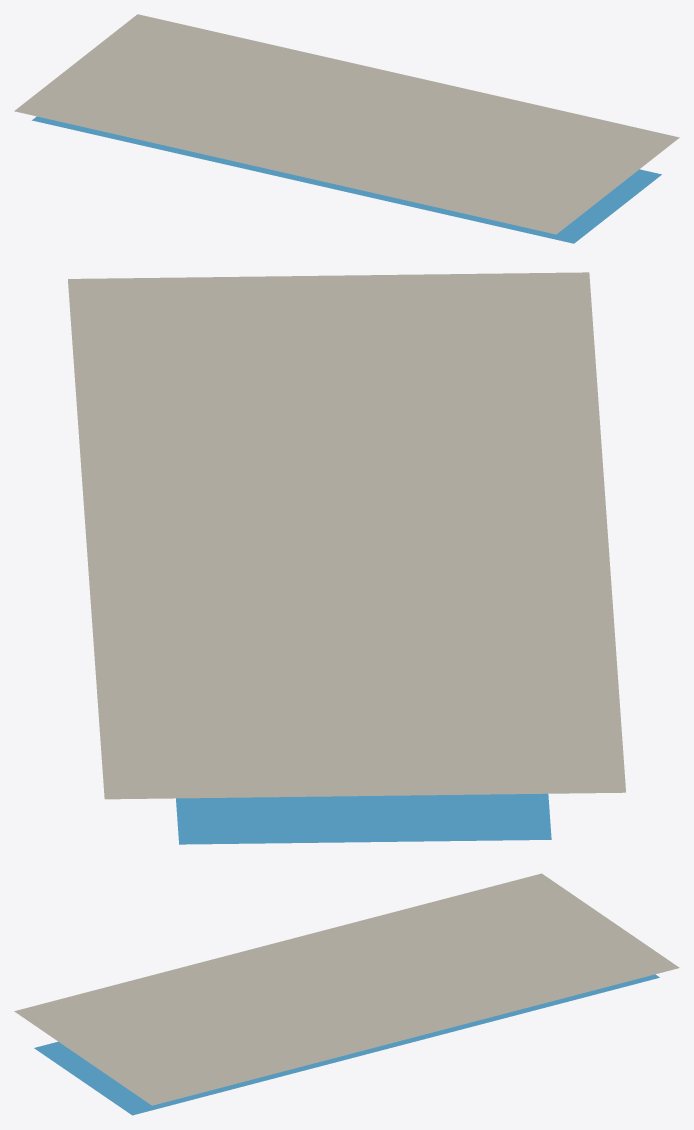
3 renders of one model, top to bottom at view 1: azimuth 30°, elevation 25°; view 2: azimuth 150°, elevation 25°; view 3: azimuth 270°, elevation 25°, orthographic. The views are drawn at different scales.
Parts seen in each view (by area): view 1: estructura_terreno, estructura_agua; view 2: estructura_terreno, estructura_agua; view 3: estructura_terreno, estructura_agua.
Boxes of the visible parts, x1,y1,x2,y2 form: estructura_terreno: (14, 14, 679, 234); estructura_agua: (32, 116, 661, 243); estructura_terreno: (68, 272, 625, 799); estructura_agua: (176, 793, 551, 844); estructura_terreno: (14, 873, 679, 1105); estructura_agua: (34, 974, 659, 1115).
Size of the model in its own units: 8.79 by 0.41 by 10.64.
